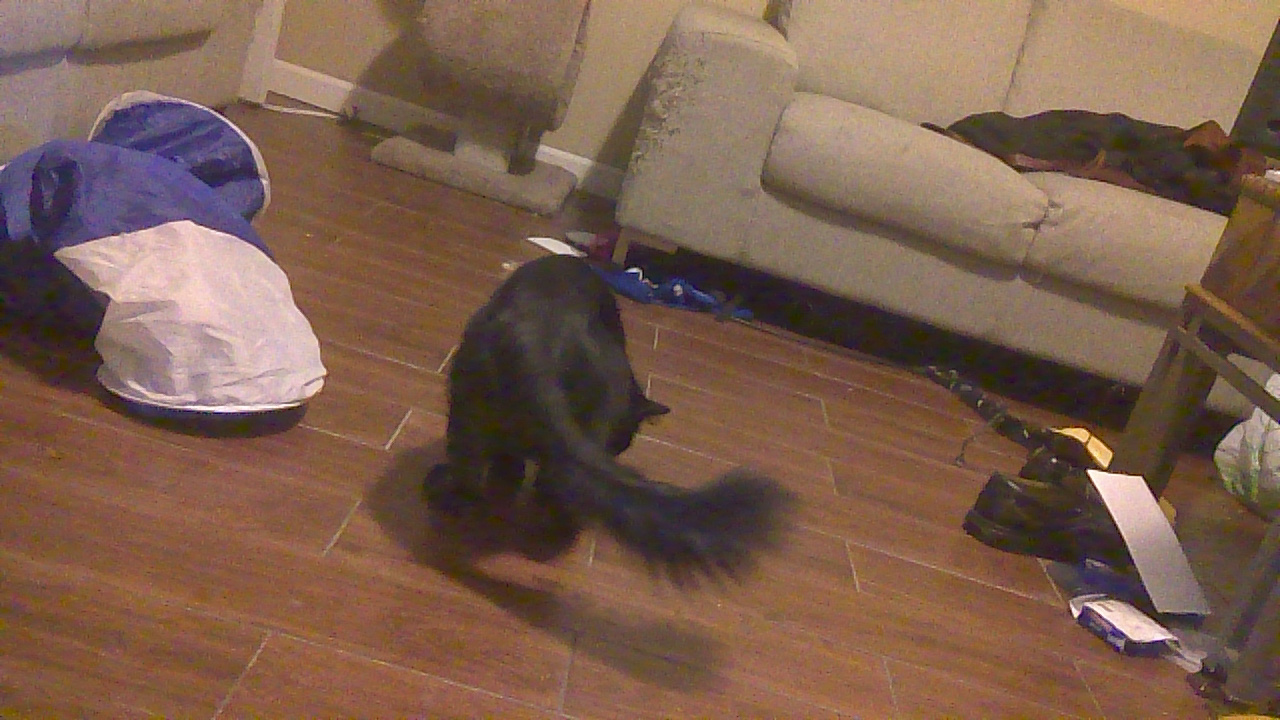cat: (422, 253, 789, 596)
